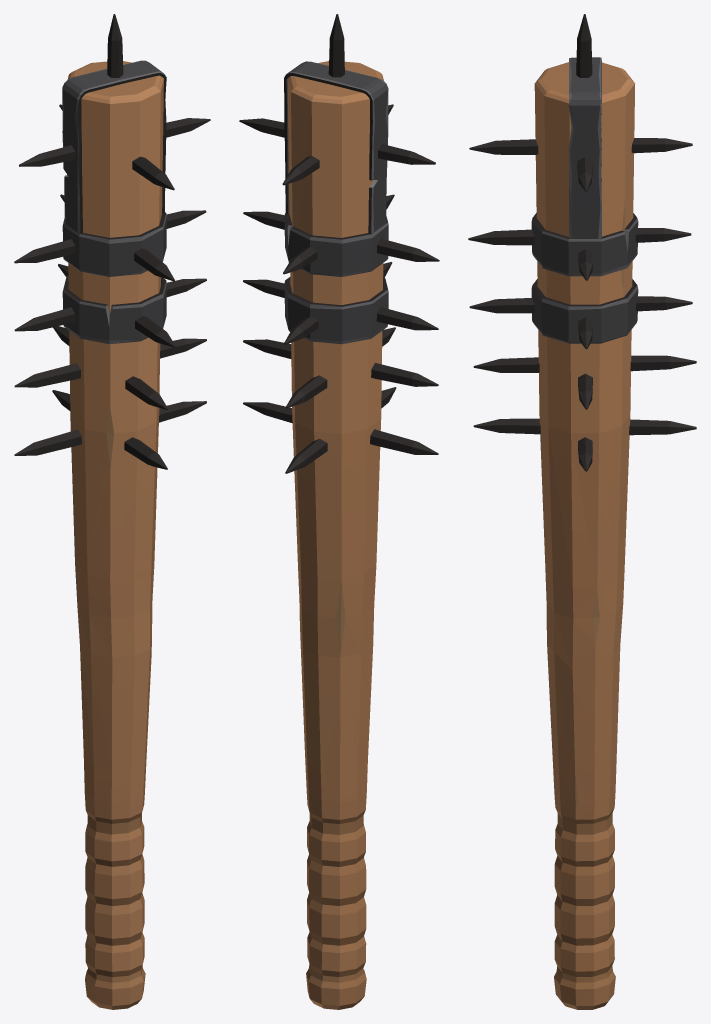
The model's file is bluntLightSpikedMace.glb.
3 views of the same model, side by side, from view 1: azimuth 30°, elevation 25°; view 2: azimuth 150°, elevation 25°; view 3: azimuth 270°, elevation 25° (orthographic).
Parts seen in each view (by area): view 1: bluntLightSpikedMace; view 2: bluntLightSpikedMace; view 3: bluntLightSpikedMace.
Part boxes in pixels (x1,y1,x2,y2): bluntLightSpikedMace: (14, 14, 210, 1009); bluntLightSpikedMace: (239, 14, 439, 1009); bluntLightSpikedMace: (468, 14, 696, 1009).
Bounding box in the file's own units: 0.1842 × 0.8781 × 0.1846.
